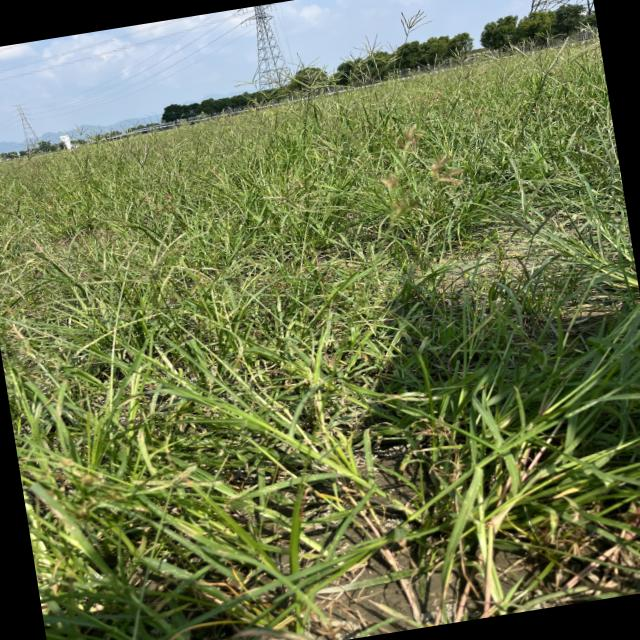cyperus: (357, 106, 488, 227)
